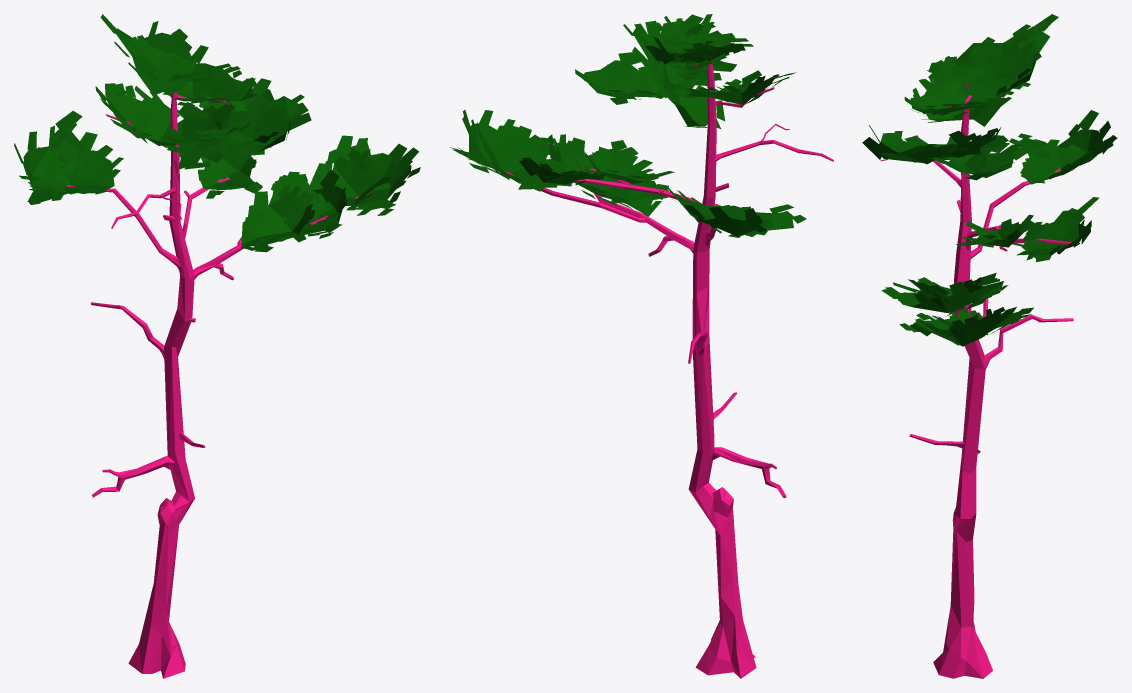
File: SM_Tree_Pine_Mature_B.fbx
3 renders of one model, left to right at view 1: azimuth 30°, elevation 25°; view 2: azimuth 150°, elevation 25°; view 3: azimuth 270°, elevation 25°, orthographic. The views are drawn at different scales.
Visible parts, largest first — view 1: SM_Tree_Pine_Mature_B; view 2: SM_Tree_Pine_Mature_B; view 3: SM_Tree_Pine_Mature_B.
Boxes of the visible parts, x1,y1,x2,y2 form: SM_Tree_Pine_Mature_B: [14, 14, 420, 678]; SM_Tree_Pine_Mature_B: [450, 14, 833, 678]; SM_Tree_Pine_Mature_B: [862, 14, 1117, 678].
Bounding box in the file's own units: 5.95 × 9.96 × 3.57.
